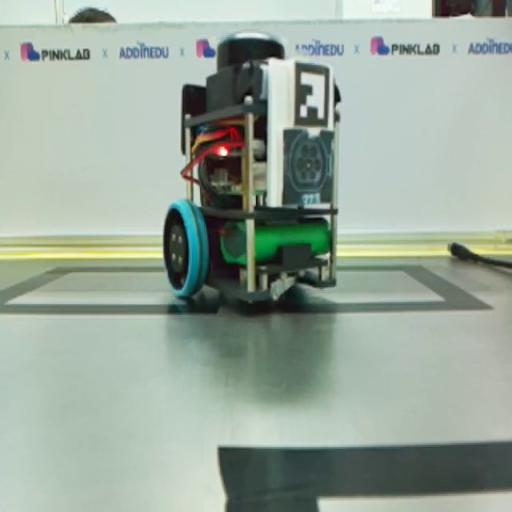pinky_63: (162, 31, 341, 302)
